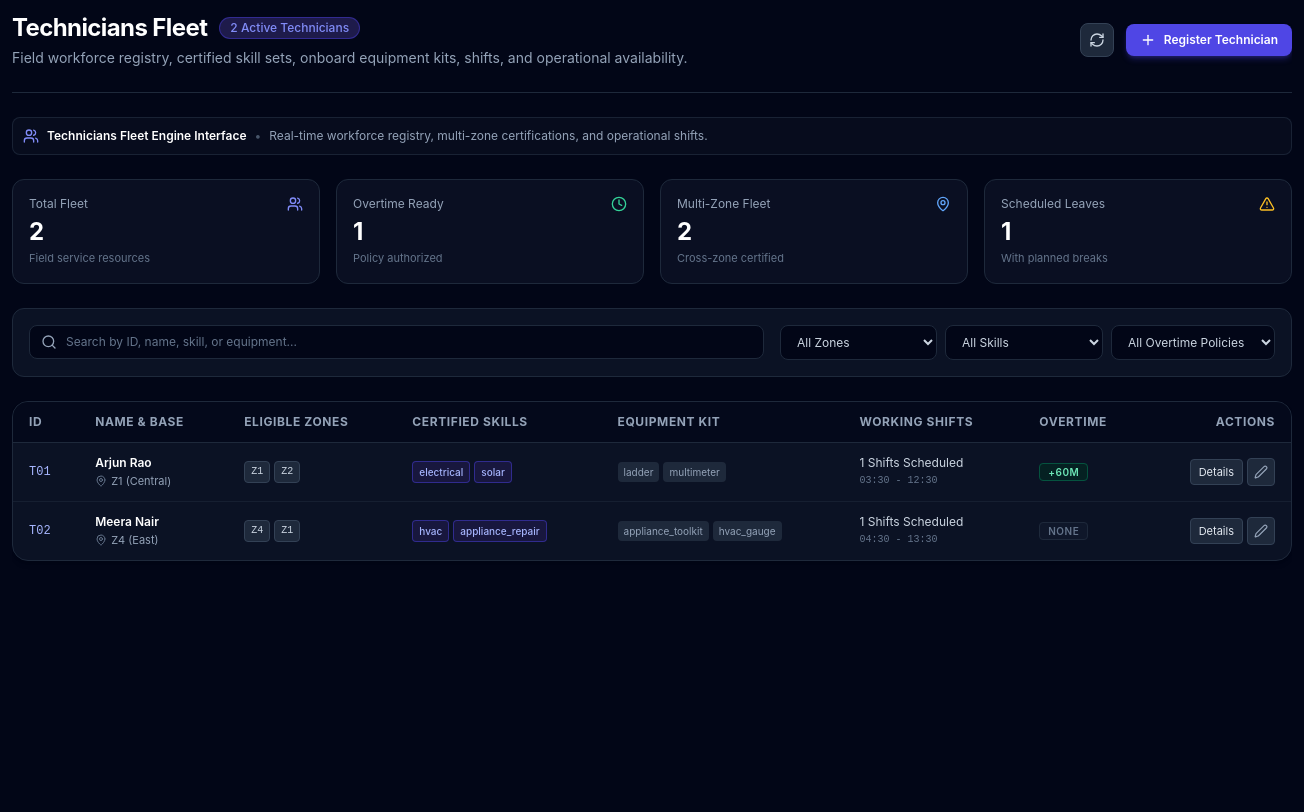
TechniciansPage Component › filters technicians using skill filter dropdown
Check: the text "Arjun Rao" is shown, box x1=95 y1=454 x2=152 y2=470
Select "HVAC" in the dropdown named "Filter by Skill" at (1024, 342), box x1=945 y1=324 x2=1103 y2=360
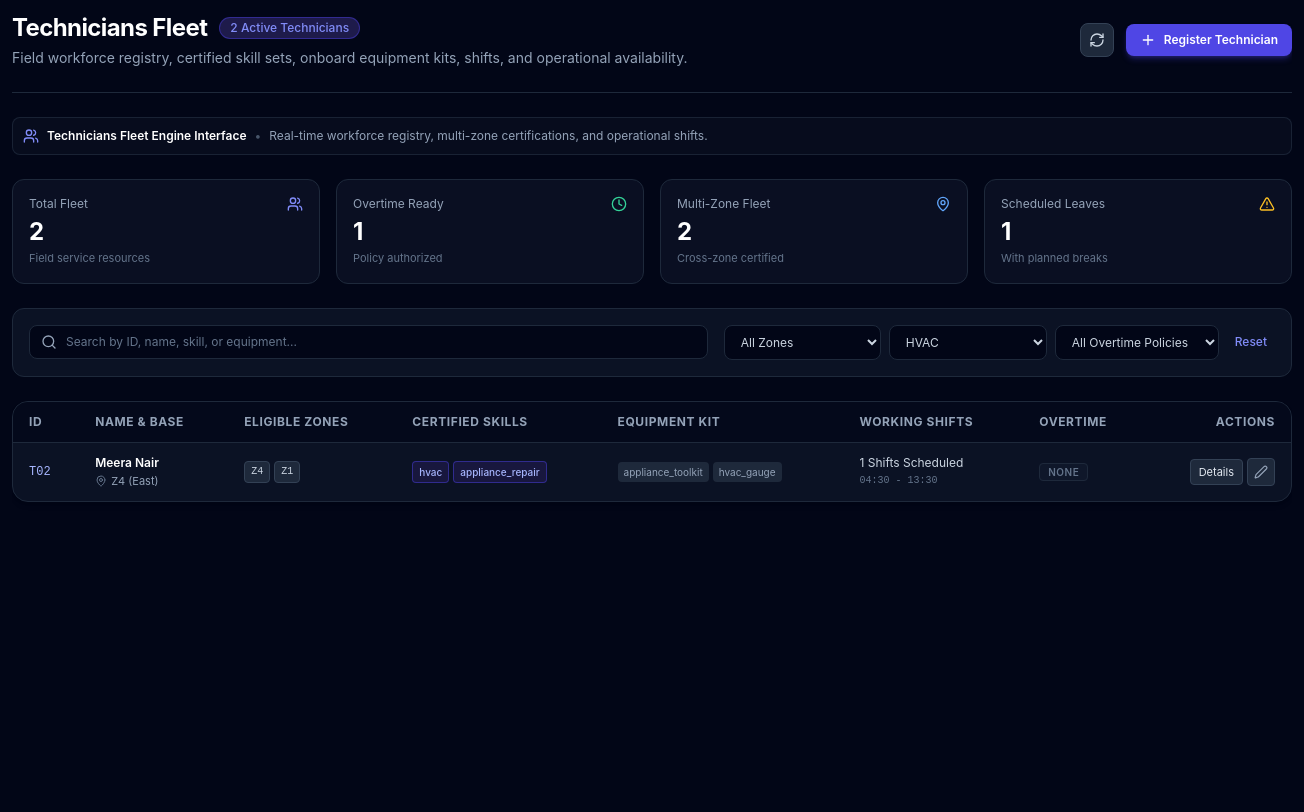
Check: the text "Meera Nair" is shown, box x1=95 y1=454 x2=159 y2=470
Check: the text "Arjun Rao" is gone
